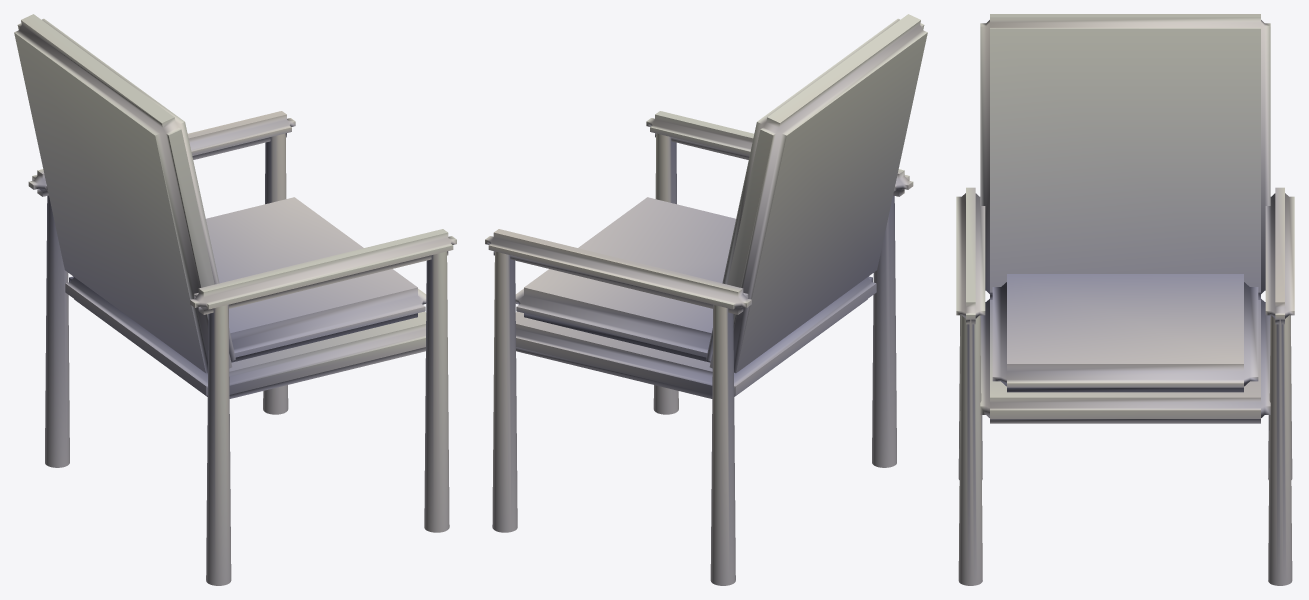
The model's file is cane-chair.glb.
The picture shows the model from 3 angles, left to right: view 1: azimuth 30°, elevation 25°; view 2: azimuth 150°, elevation 25°; view 3: azimuth 270°, elevation 25°; orthographic projection. The views are drawn at different scales.
Parts seen in each view (by area): view 1: body; view 2: body; view 3: body.
Part boxes in pixels (box(x1,y1,x2,y2)): body: box(14, 14, 456, 585); body: box(485, 14, 927, 585); body: box(956, 14, 1294, 585).
Size of the model in its own units: 0.6675 by 1.02 by 0.7.
